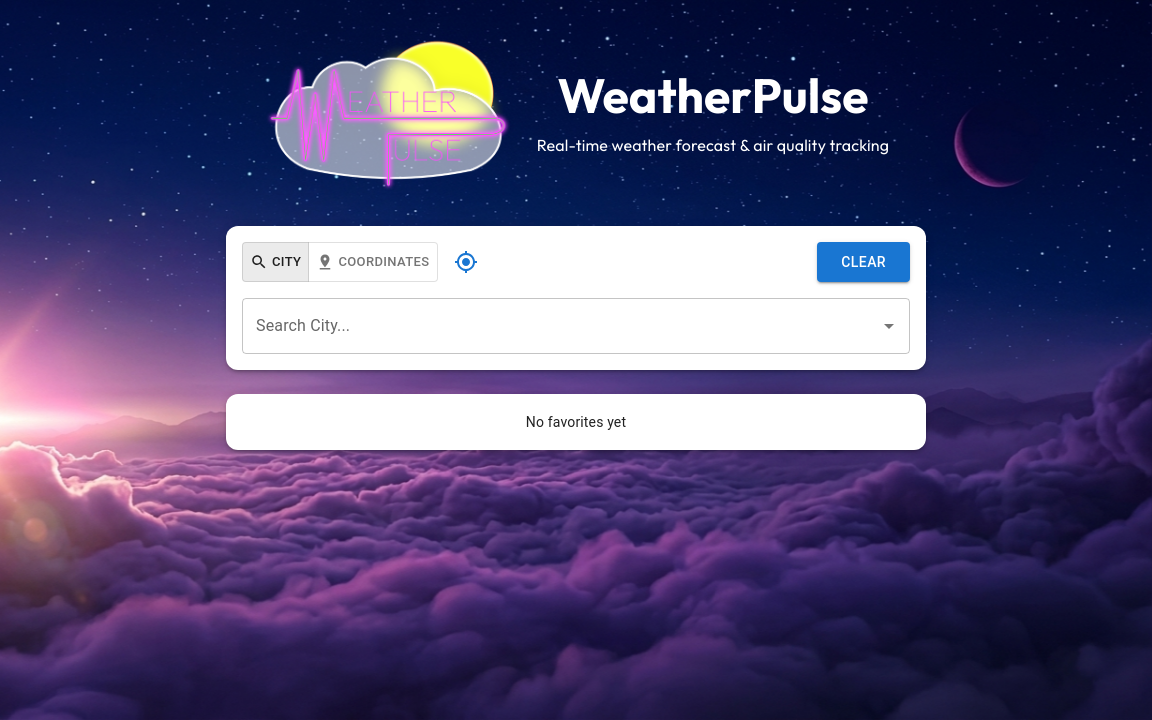
App › use my location › falls back to a coordinate label when reverse geocoding returns nothing
Click the button named "use my location". click: (466, 262)
box: [446,242,486,282]
(page scrolled)
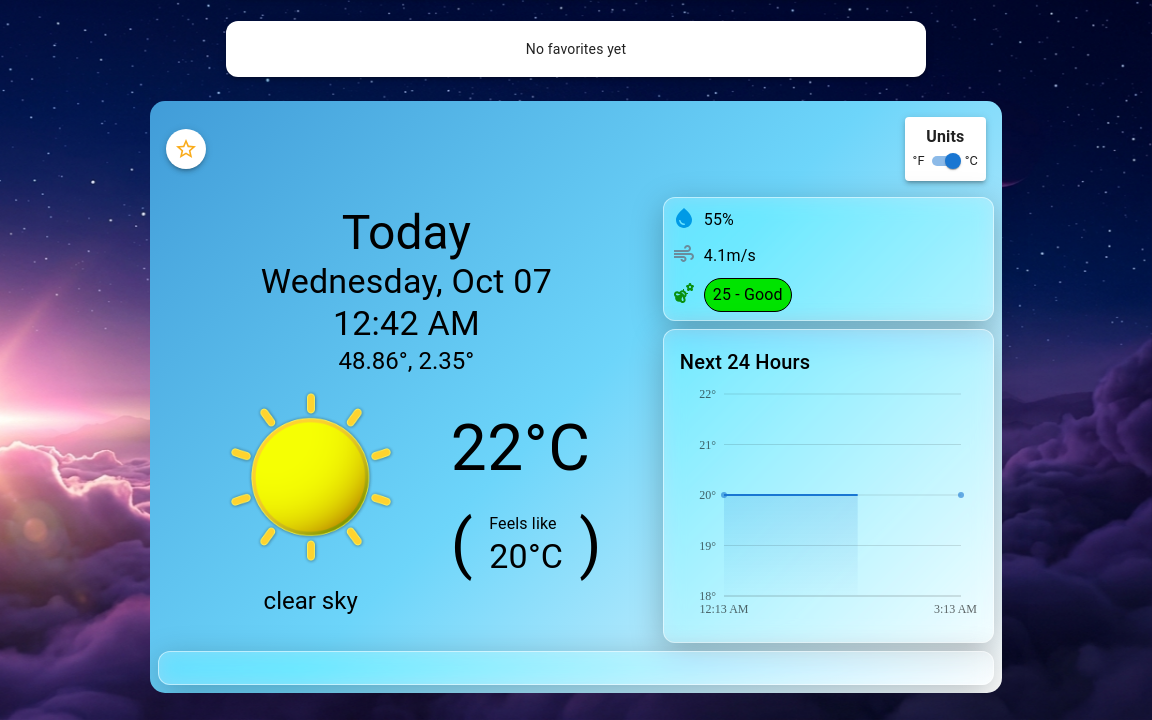
expect the heading "48.86°, 2.35°" is shown: met, box [338,345,474,377]
